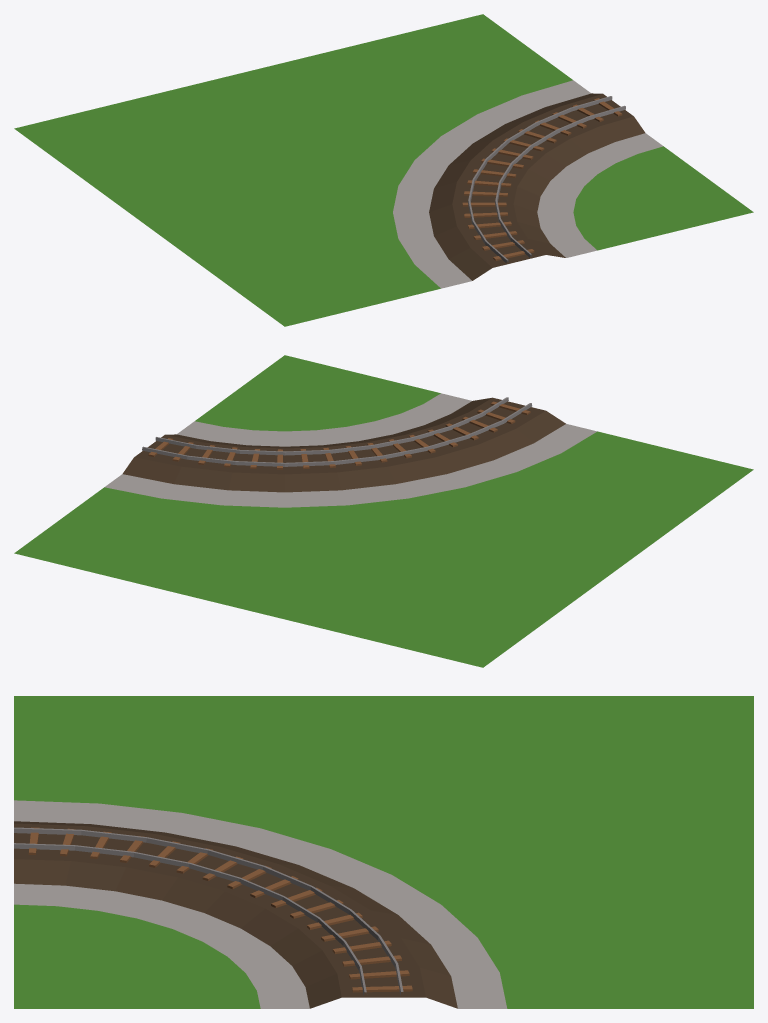
File: tiles-nb_tile-rail-curve-nb.fbx
3 views of the same model, one above another, from view 1: azimuth 30°, elevation 25°; view 2: azimuth 150°, elevation 25°; view 3: azimuth 270°, elevation 25° (orthographic). The views are drawn at different scales.
Visible parts, largest first — view 1: tiles_nb_tile_rail_curve_nb; view 2: tiles_nb_tile_rail_curve_nb; view 3: tiles_nb_tile_rail_curve_nb.
Boxes of the visible parts, box(x1,y1,x2,y2) form: tiles_nb_tile_rail_curve_nb: box(14, 14, 753, 326); tiles_nb_tile_rail_curve_nb: box(14, 355, 753, 667); tiles_nb_tile_rail_curve_nb: box(14, 696, 753, 1008).
Size of the model in its own units: 200 by 4.97 by 200.
